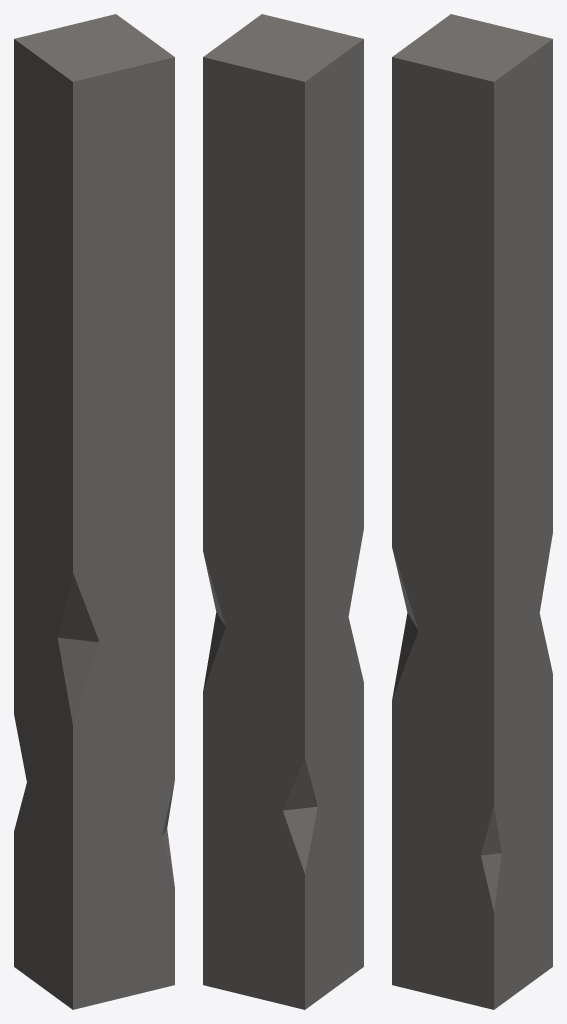
The model's file is SM_Env_Pillar_04.fbx.
3 views of the same model, side by side, from view 1: azimuth 30°, elevation 25°; view 2: azimuth 150°, elevation 25°; view 3: azimuth 330°, elevation 25° (orthographic).
Visible parts, largest first — view 1: SM_Env_Pillar_04; view 2: SM_Env_Pillar_04; view 3: SM_Env_Pillar_04.
Boxes of the visible parts, box(x1,y1,x2,y2) form: SM_Env_Pillar_04: box(14, 14, 174, 1009); SM_Env_Pillar_04: box(203, 14, 363, 1009); SM_Env_Pillar_04: box(392, 14, 552, 1009).
Size of the model in its own units: 23.79 by 207 by 23.79.
Materials: 1 (1 with a texture image).
